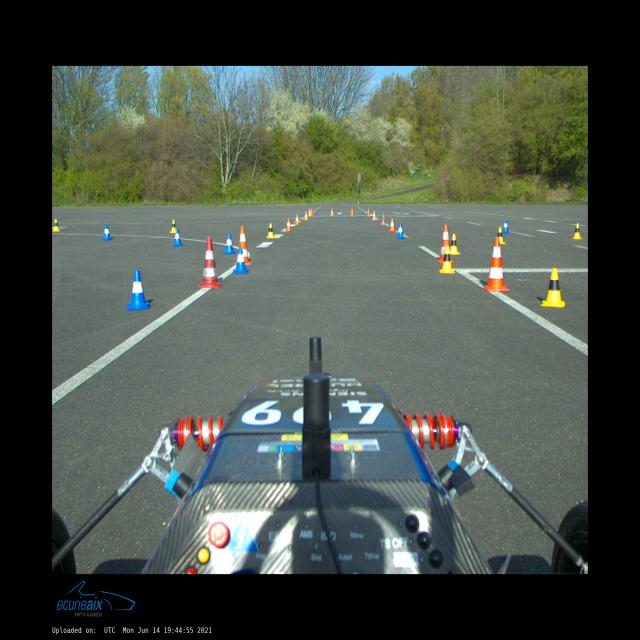blue_cone: (127, 270, 150, 310), (232, 246, 248, 274), (222, 234, 236, 254), (172, 228, 184, 246), (102, 224, 112, 240), (396, 224, 405, 238), (502, 220, 510, 233)
large_orange_cone: (482, 237, 510, 292), (197, 236, 223, 288), (436, 225, 454, 263), (235, 226, 252, 265)
orange_cone: (389, 218, 396, 232), (285, 218, 292, 232), (294, 214, 300, 225), (381, 213, 386, 224), (372, 210, 377, 220), (366, 208, 371, 216), (304, 211, 308, 220), (308, 208, 312, 216), (330, 208, 334, 216), (350, 208, 354, 216), (312, 208, 314, 216)
yellow_cone: (541, 268, 565, 308), (439, 246, 455, 274), (451, 234, 462, 254), (571, 223, 583, 239), (266, 223, 276, 238), (498, 227, 506, 244), (52, 219, 61, 231), (170, 219, 176, 233)
